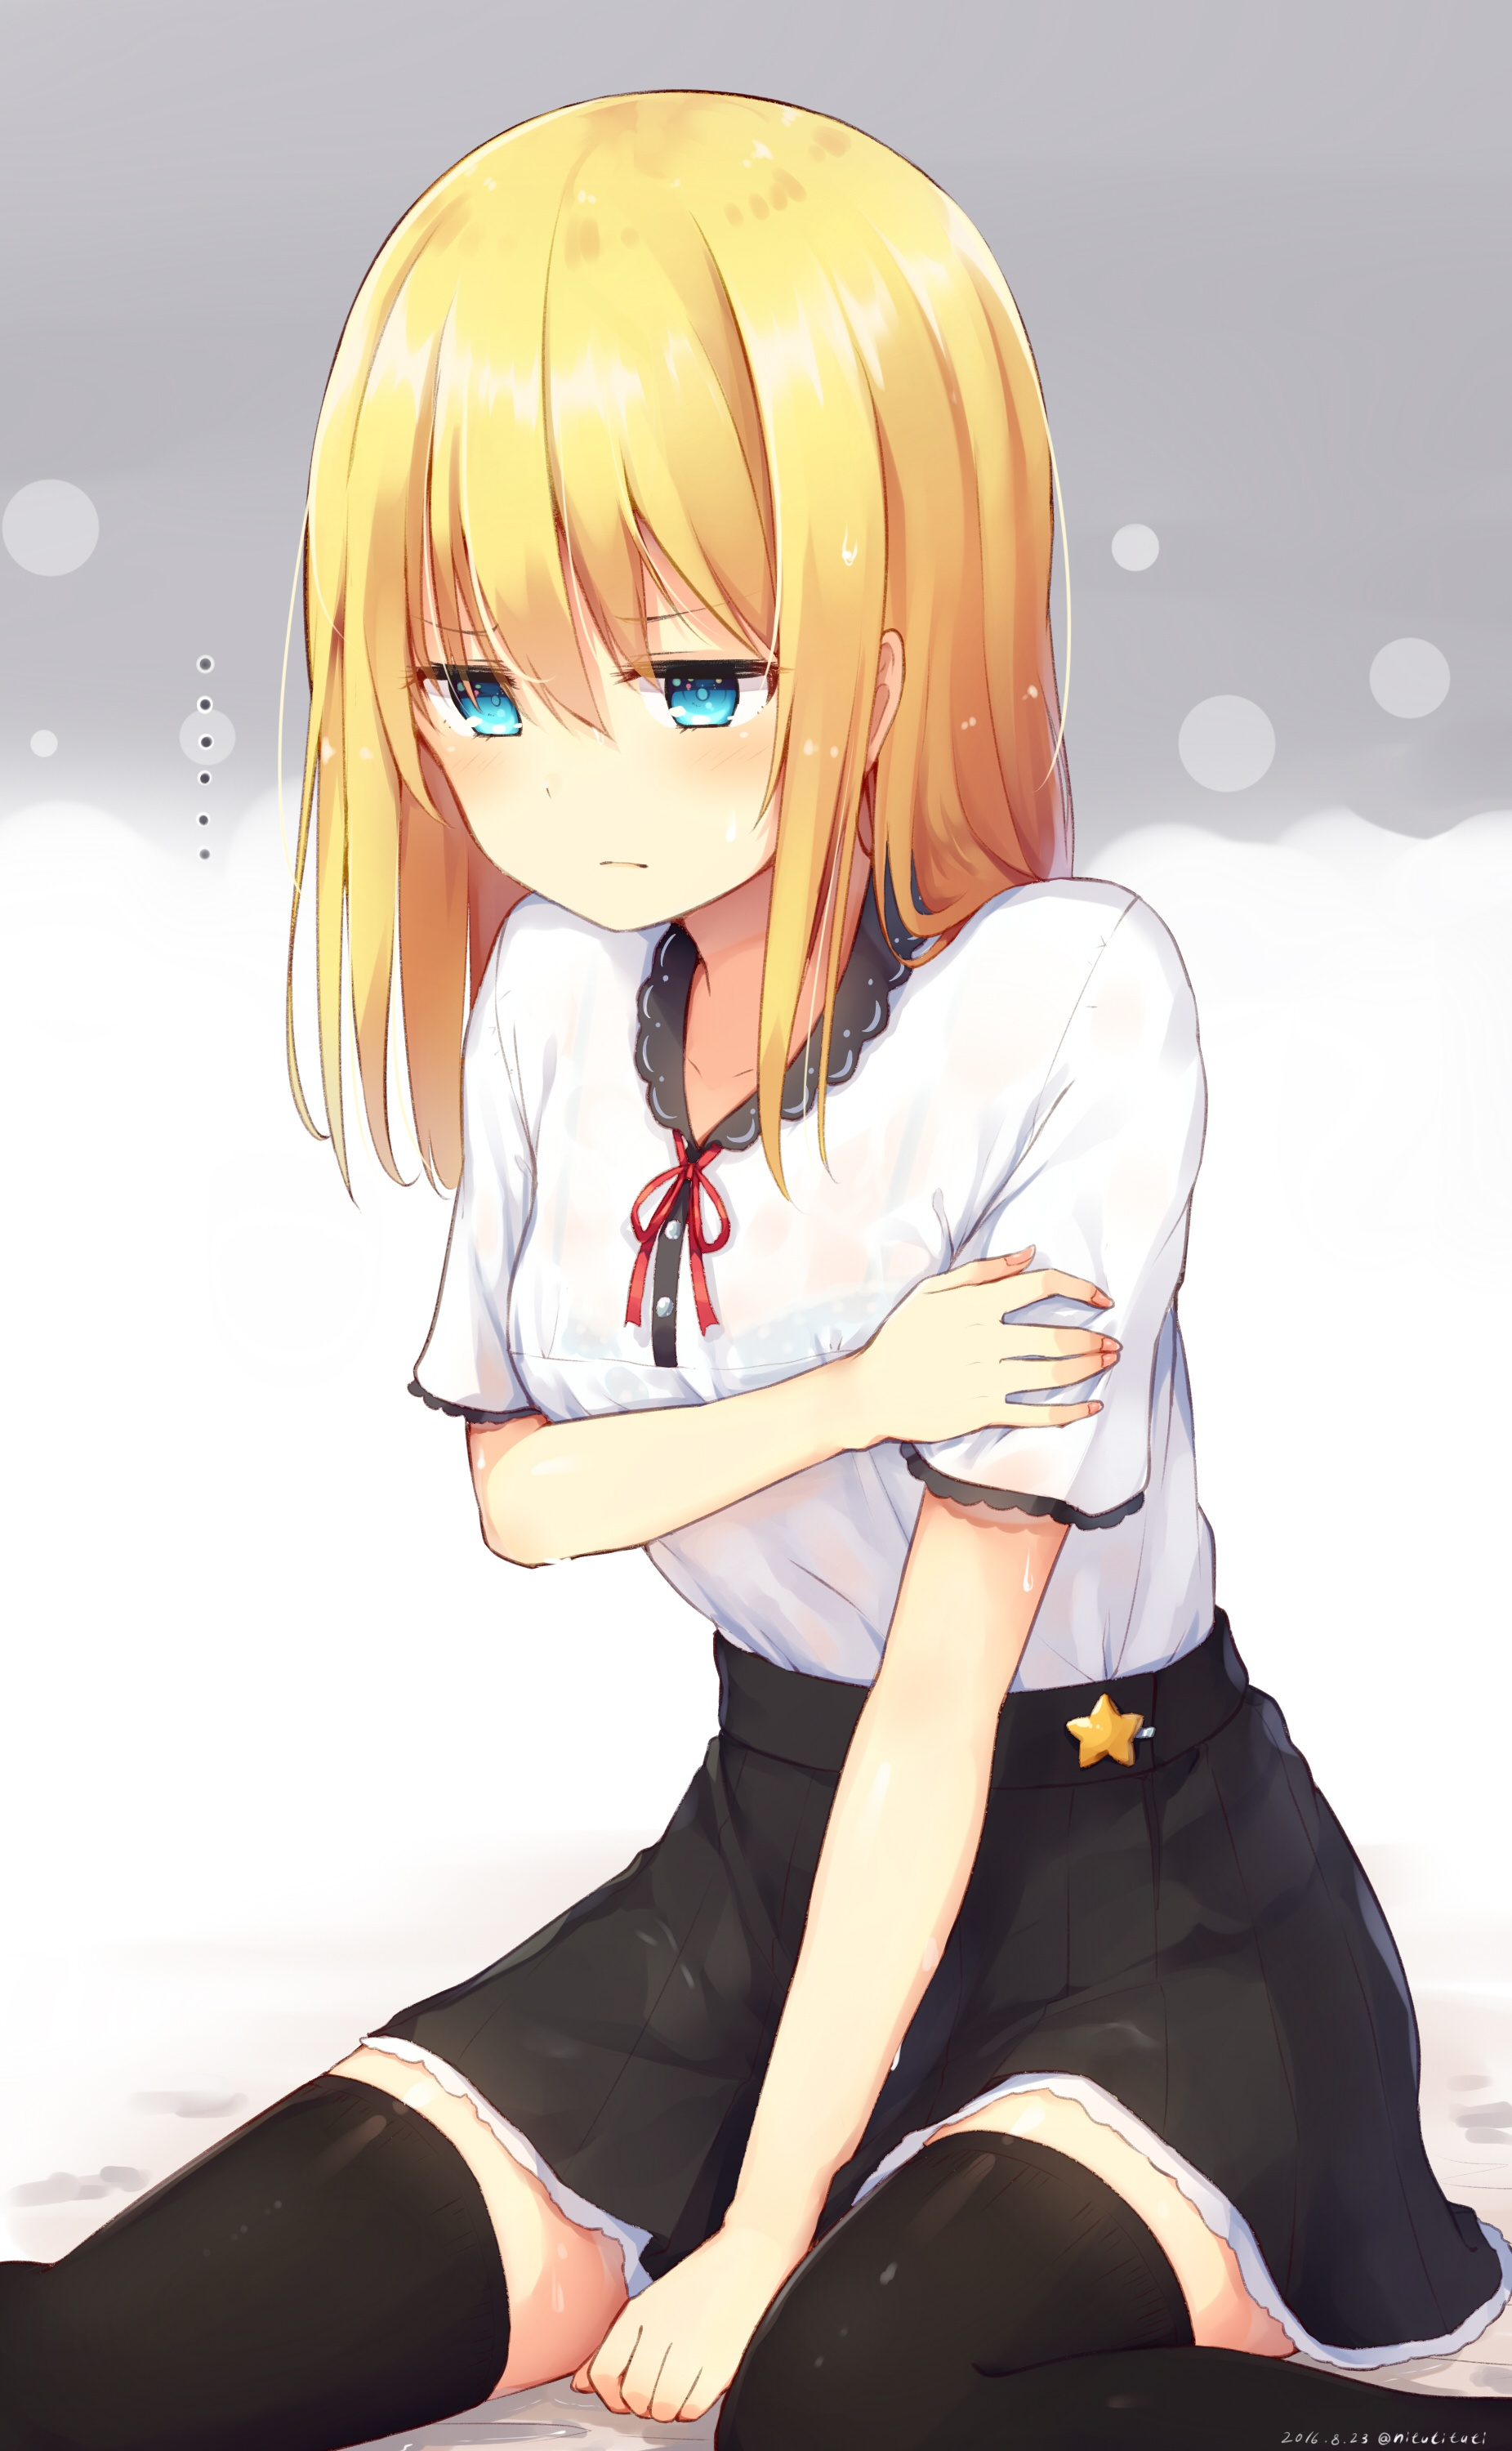纸片人正脸: (310, 85, 1064, 946)
